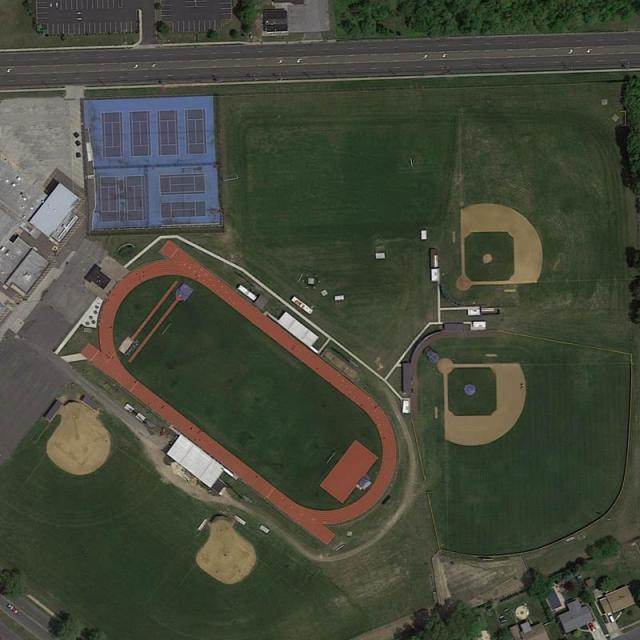vehicle: (8, 604, 19, 614)
